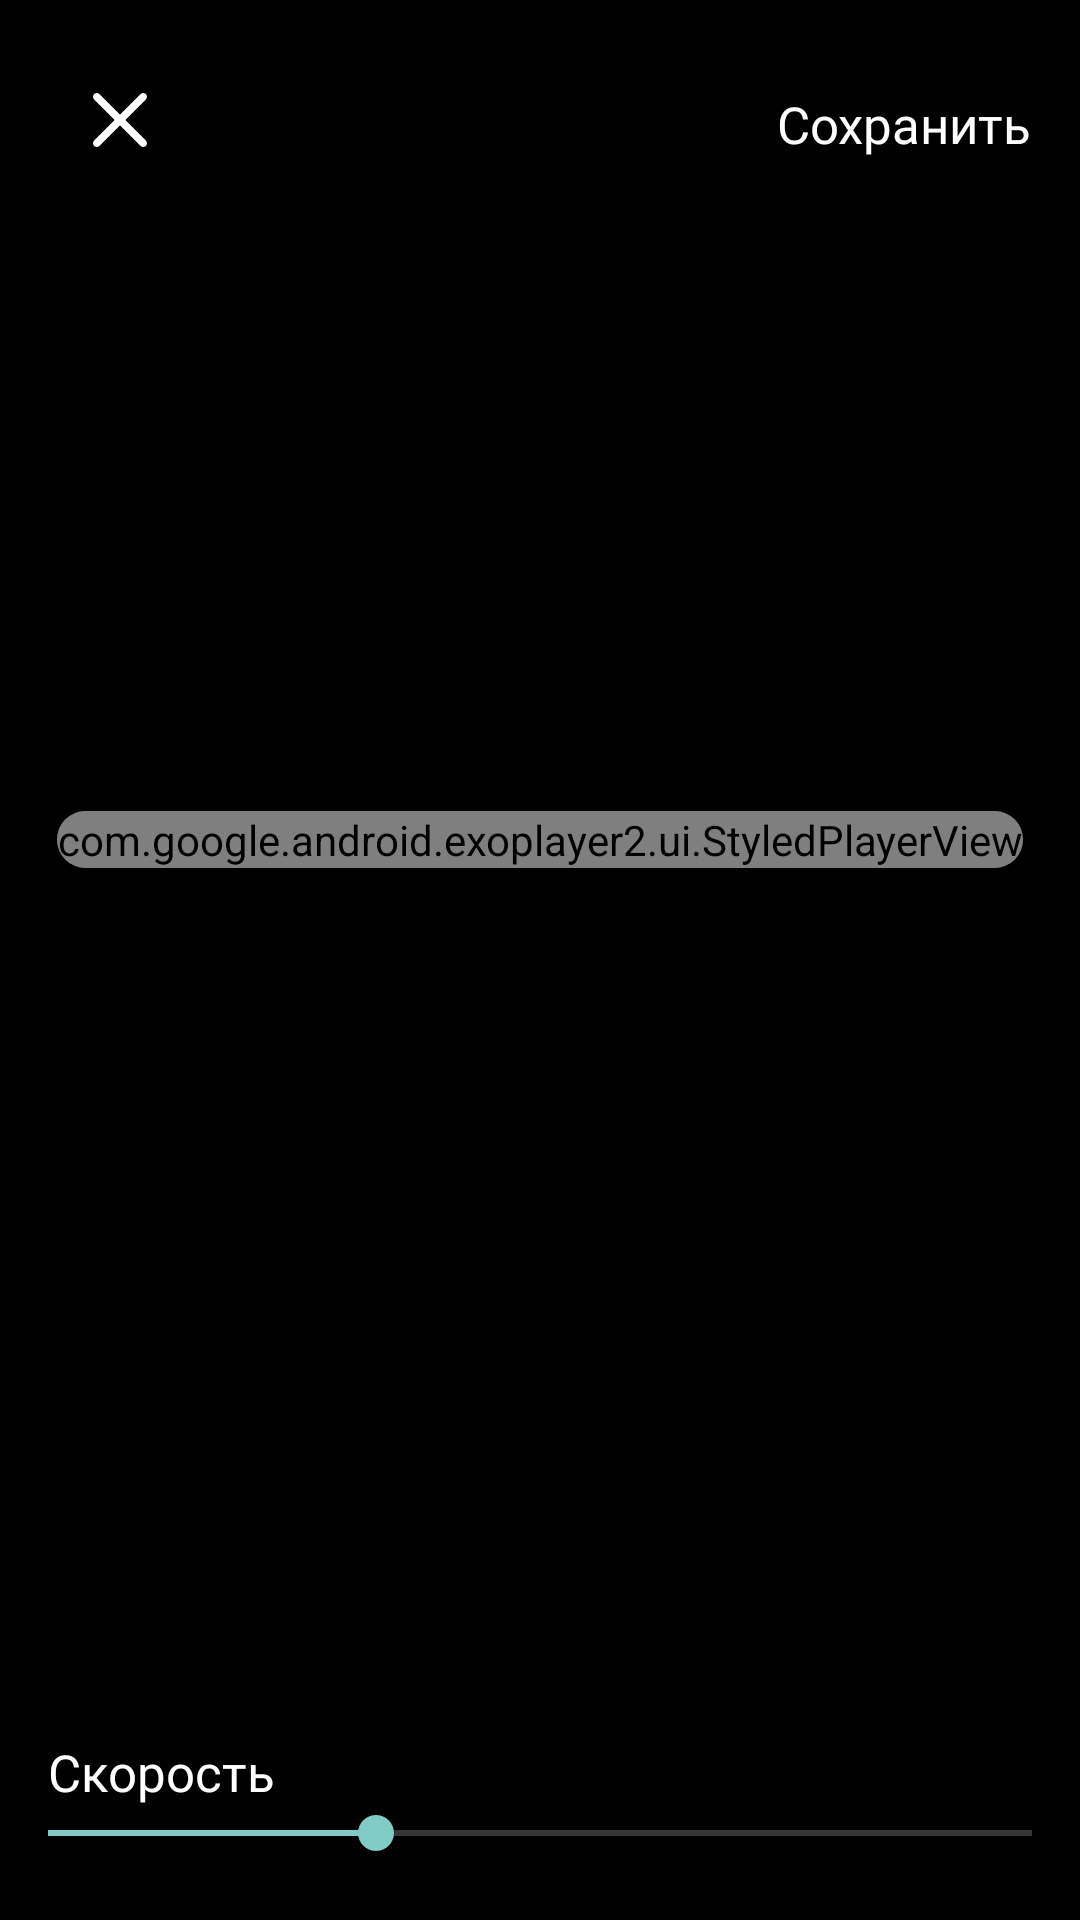

Named icons in this screenshot (1080*1920) and their bounding boxes, (left=x1, top=y1, right=x2, bottom=y2):
editor close: (left=93, top=93, right=147, bottom=147)
